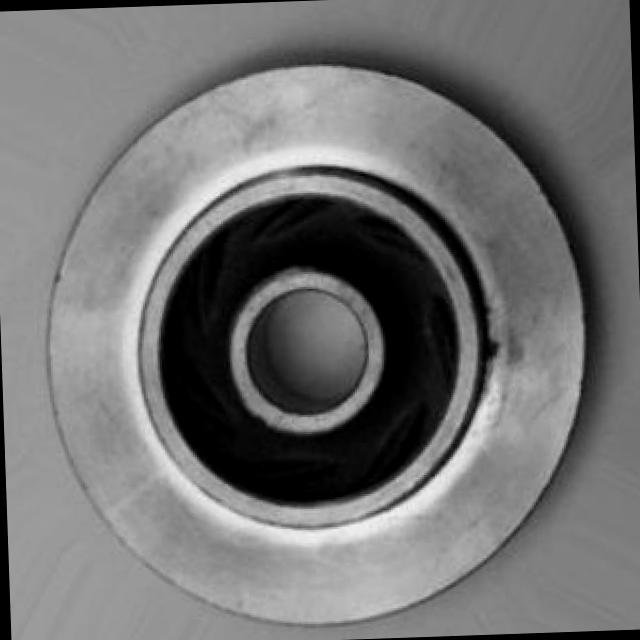Defect: (481, 330, 512, 370)
